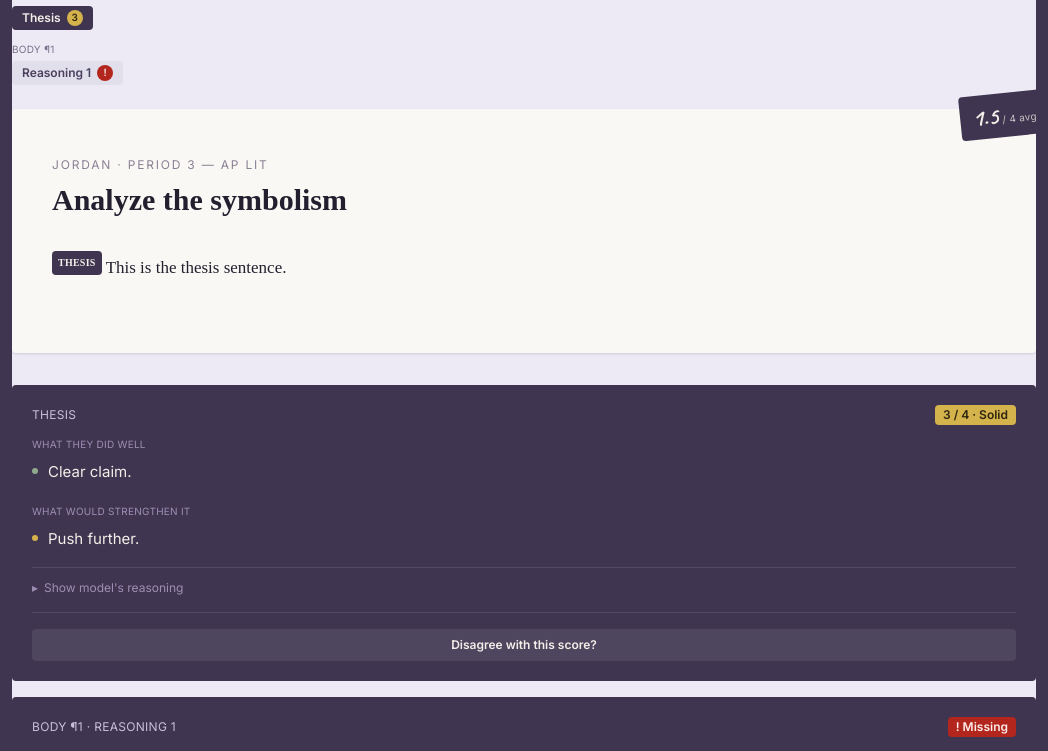
GradedView › opens a dispute, sends a message, and shows Claude's reply with a proposed score
Click the button "Disagree with this score?" at (524, 645), box [32, 629, 1016, 661]
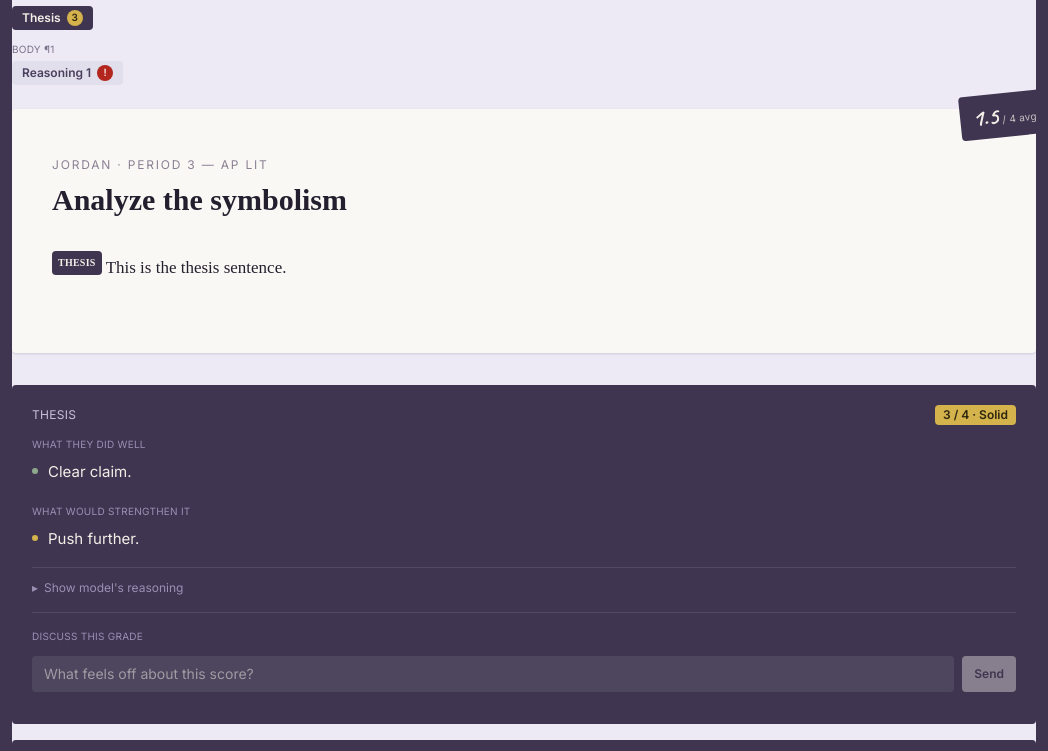
Type "This feels low for the evidence given." into the field with placeholder "What feels off about this score?" at (493, 674), box [32, 656, 954, 692]
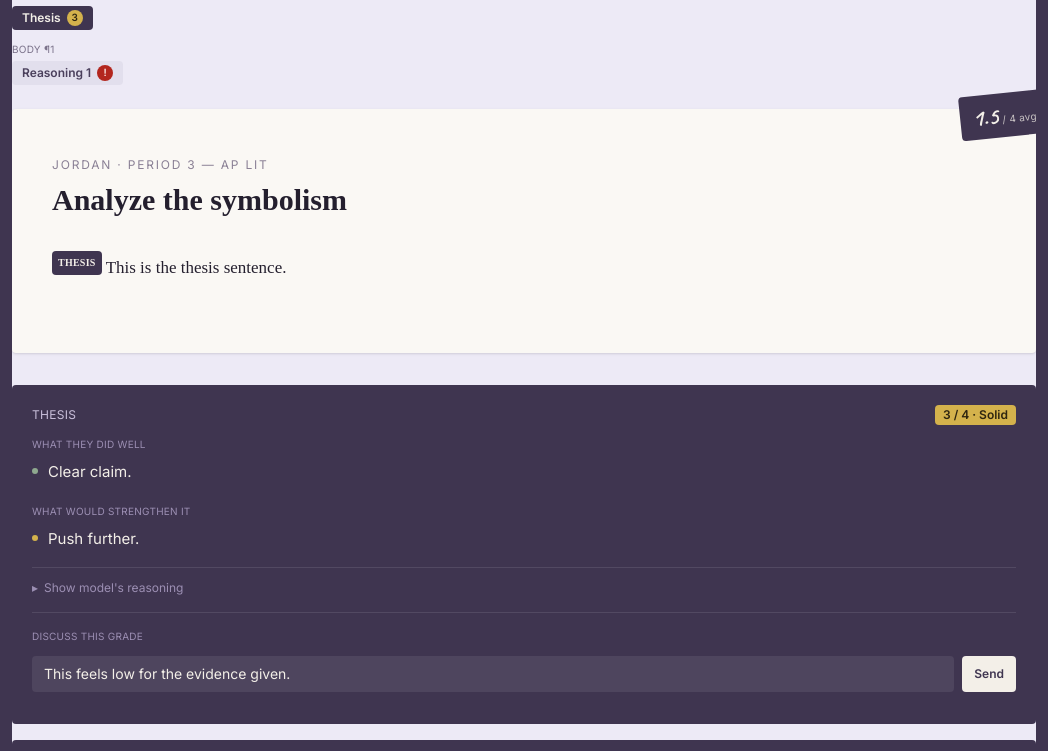
Click the button "Send" at (989, 674), box [962, 656, 1016, 692]
(page scrolled)
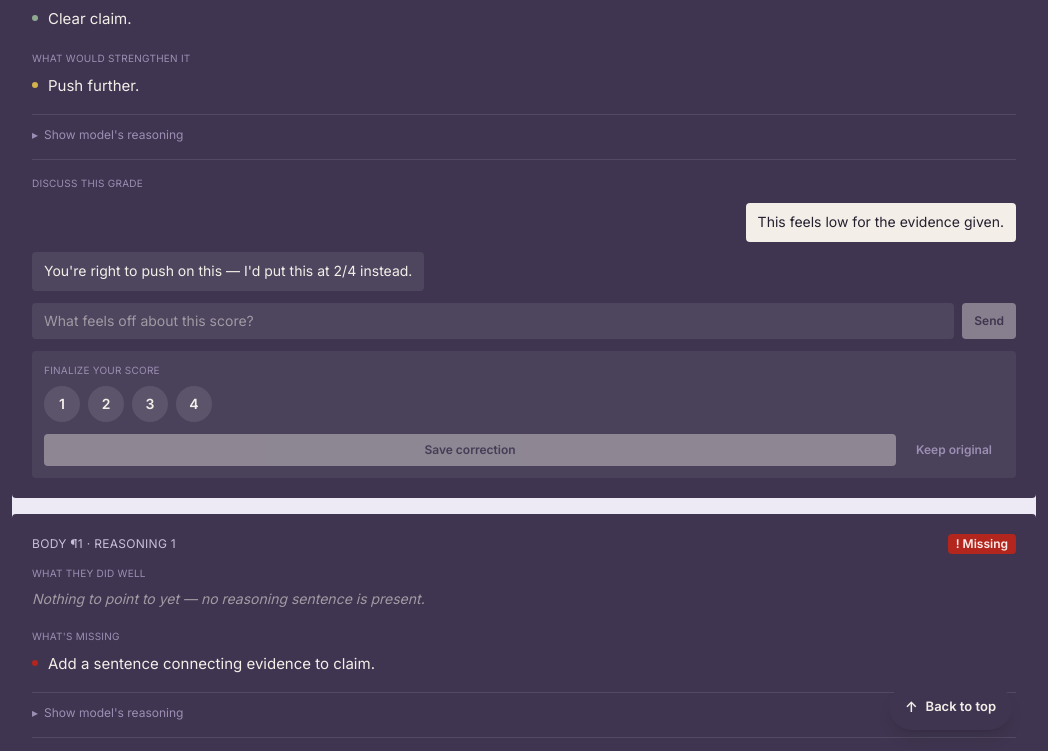
Now the text "This feels low for the evidence given." is shown, box [746, 203, 1016, 242]
Now the text "Finalize your score" is shown, box [44, 364, 160, 376]
